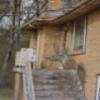stairs: (23, 68, 85, 100)
